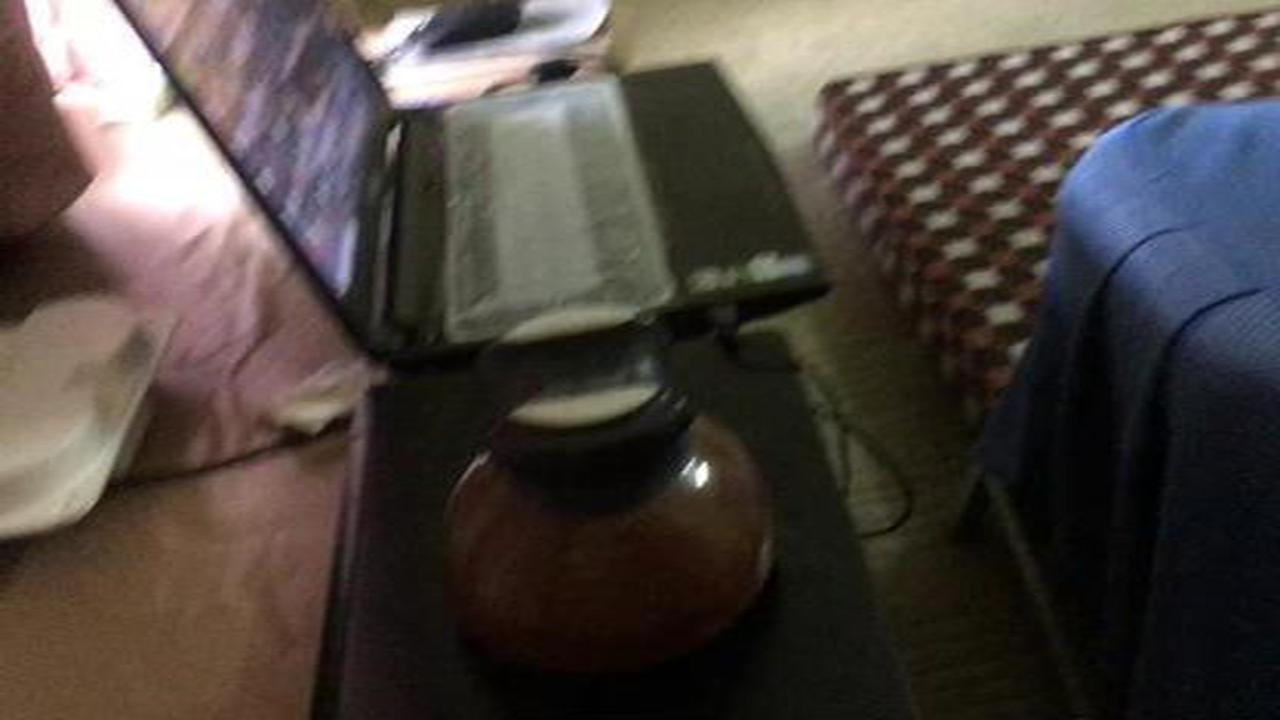insulator_pin: (410, 300, 791, 689)
